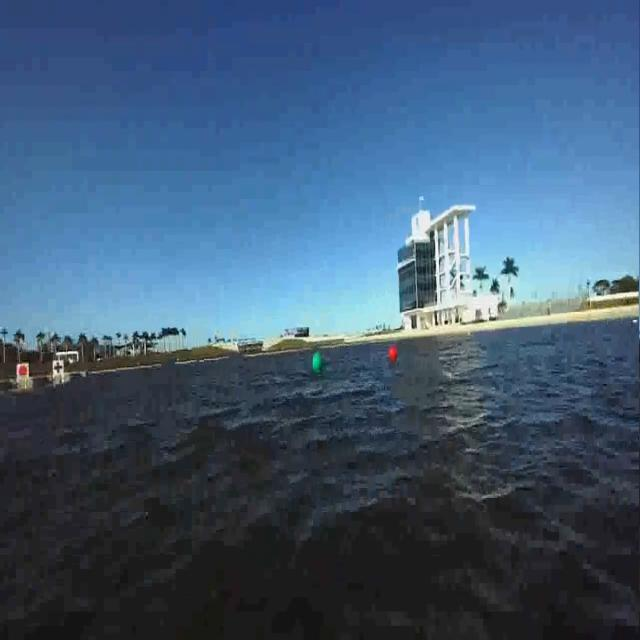green-buoy: (313, 352, 322, 370)
red-buoy: (389, 346, 397, 361)
